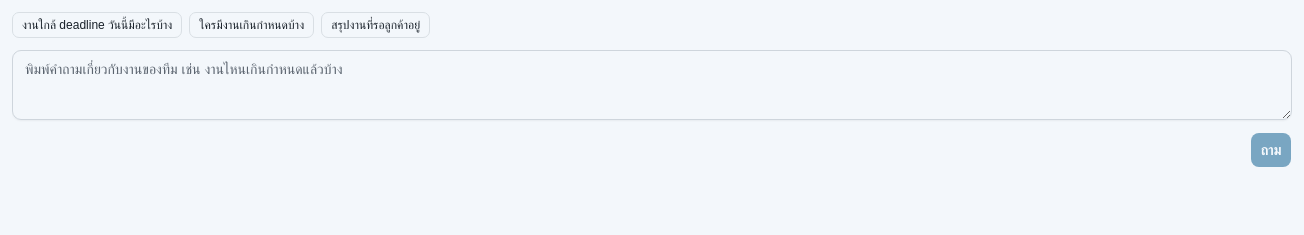
QaClient › shows a generic error when the action throws
Type "อะไรดี" into the text box labelled "คำถามเกี่ยวกับงาน" at (652, 85), box left=12, top=50, right=1292, bottom=120
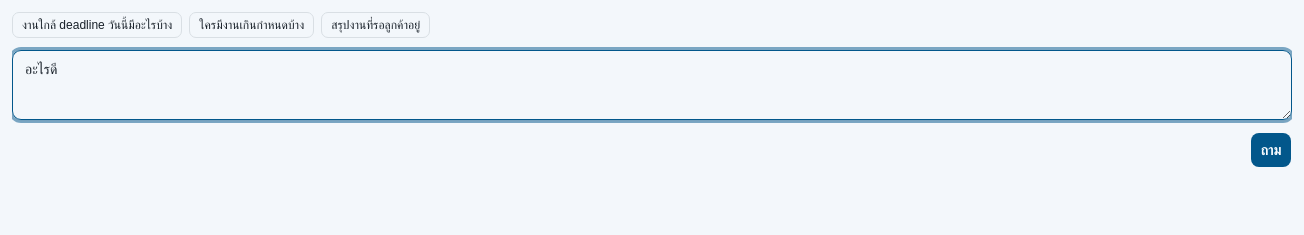
Click the button "ถาม" at (1271, 150), box left=1250, top=132, right=1292, bottom=168
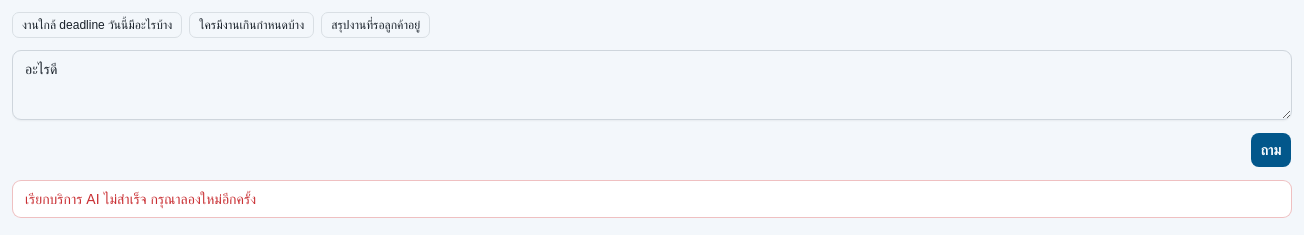
Expected: the message reads "เรียกบริการ AI ไม่สำเร็จ กรุณาลองใหม่อีกครั้ง", left=25, top=191, right=256, bottom=207
